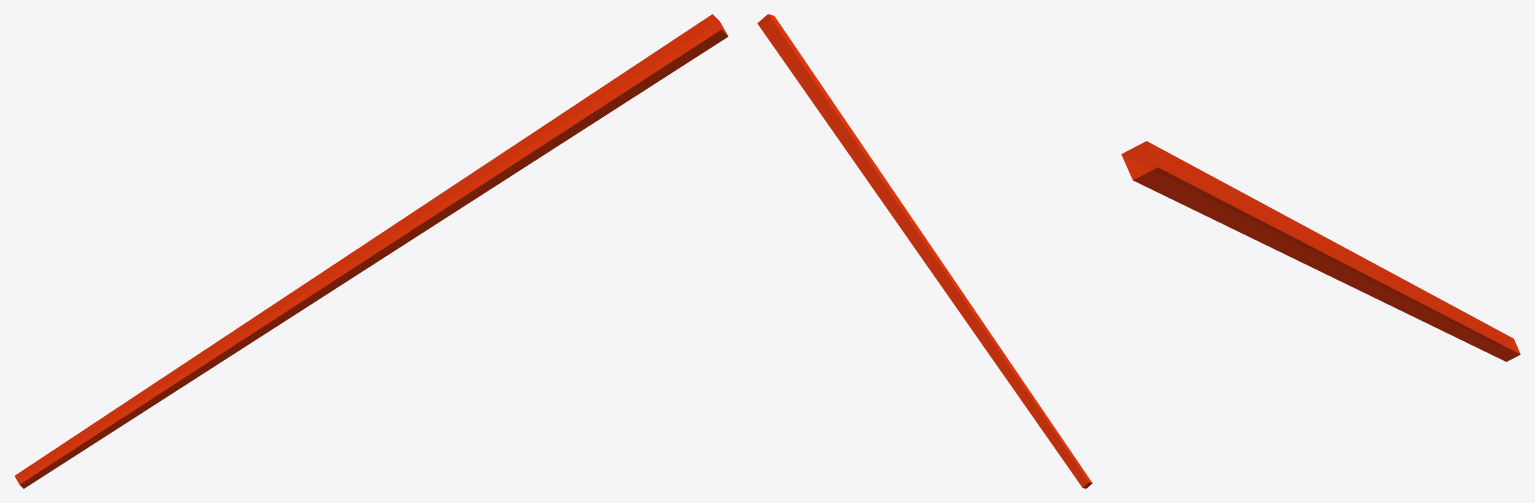
The model's file is Event_421115418_EBrechit_38.fbx.
3 views of the same model, side by side, from view 1: azimuth 30°, elevation 25°; view 2: azimuth 150°, elevation 25°; view 3: azimuth 270°, elevation 25° (orthographic). The views are drawn at different scales.
Visible parts, largest first — view 1: Model; view 2: Model; view 3: Model.
Part boxes in pixels (x1,y1,x2,y2): Model: (14,14,728,488); Model: (757,14,1092,488); Model: (1121,141,1520,361).
Bounding box in the file's own units: 3.26 × 2.29 × 1.34.
